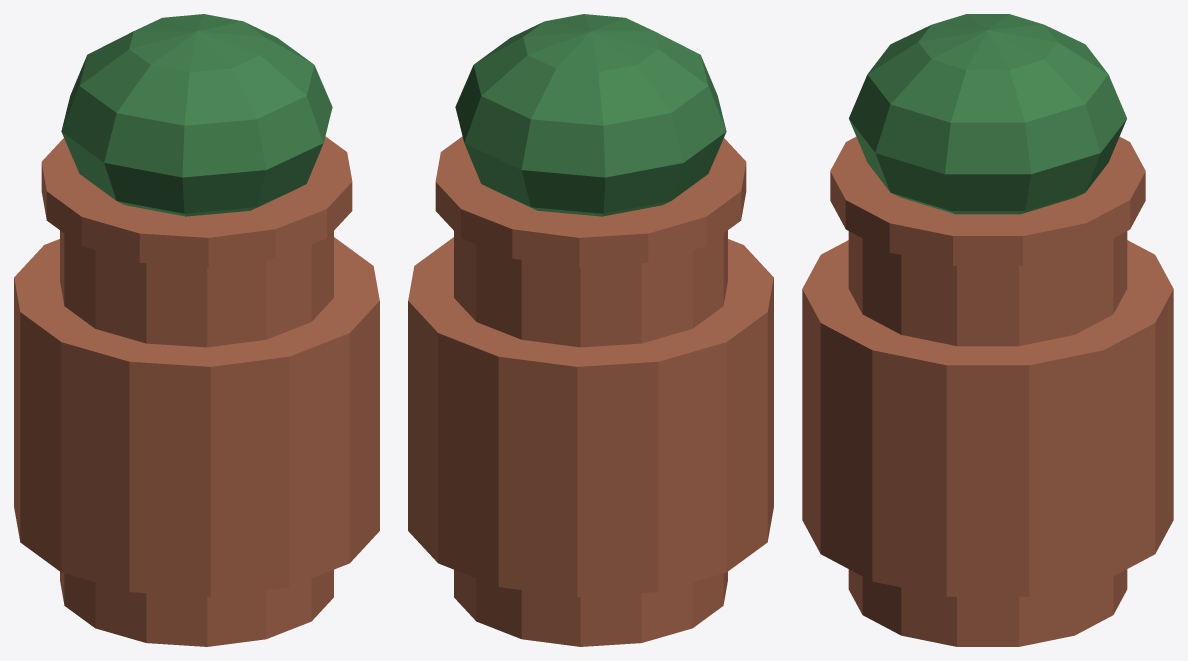
Rendered from vase_large.glb.
The picture shows the model from 3 angles, left to right: view 1: azimuth 30°, elevation 25°; view 2: azimuth 150°, elevation 25°; view 3: azimuth 270°, elevation 25°; orthographic projection.
Parts seen in each view (by area): view 1: vase_large; view 2: vase_large; view 3: vase_large.
Part boxes in pixels (box(x1,y1,x2,y2)): vase_large: box(14, 14, 379, 646); vase_large: box(408, 14, 773, 646); vase_large: box(802, 14, 1173, 646).
Size of the model in its own units: 0.7799 by 1.33 by 0.8.
